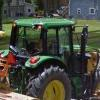Tractor: (8, 11, 100, 100)
